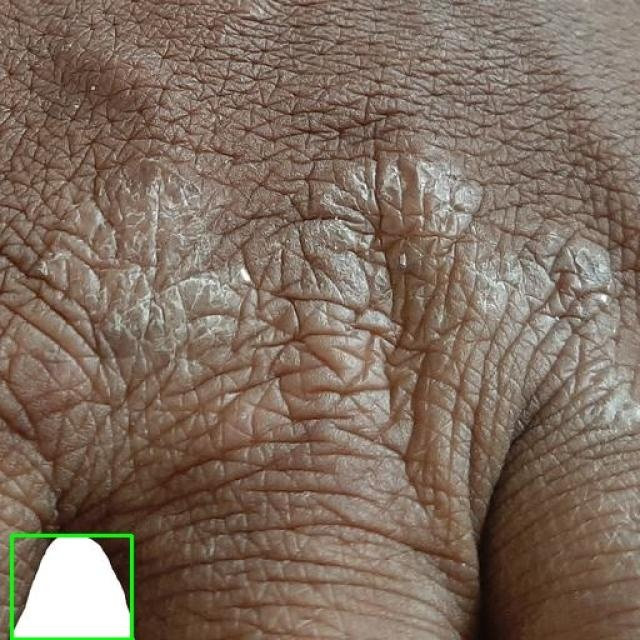Contact Dermatitis: (11, 535, 132, 639)
